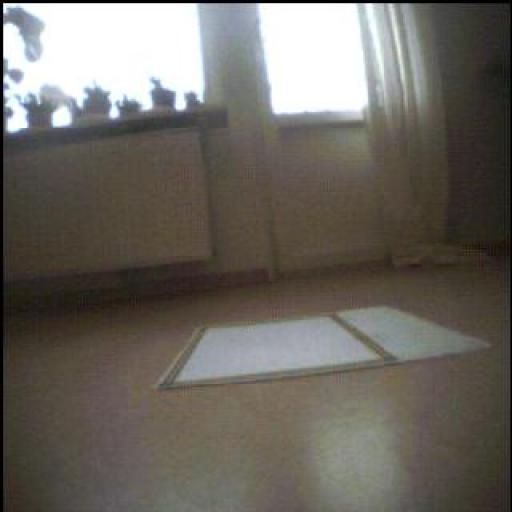Pad: (158, 308, 489, 390)
